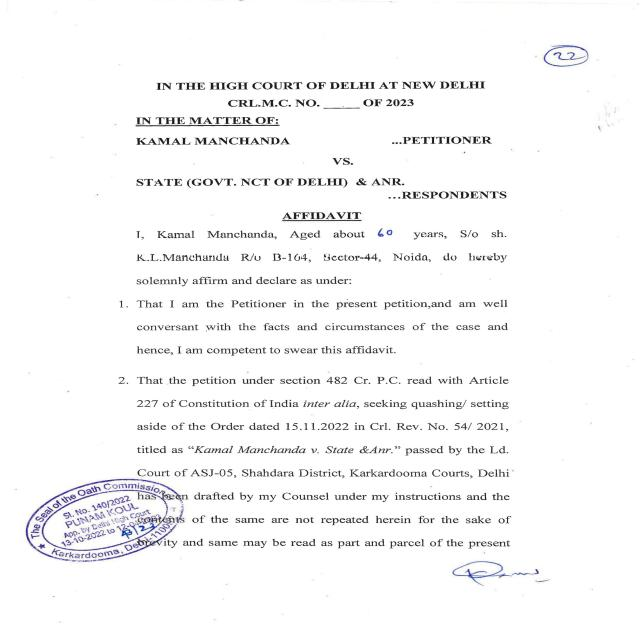page-number: (495, 15, 640, 132)
